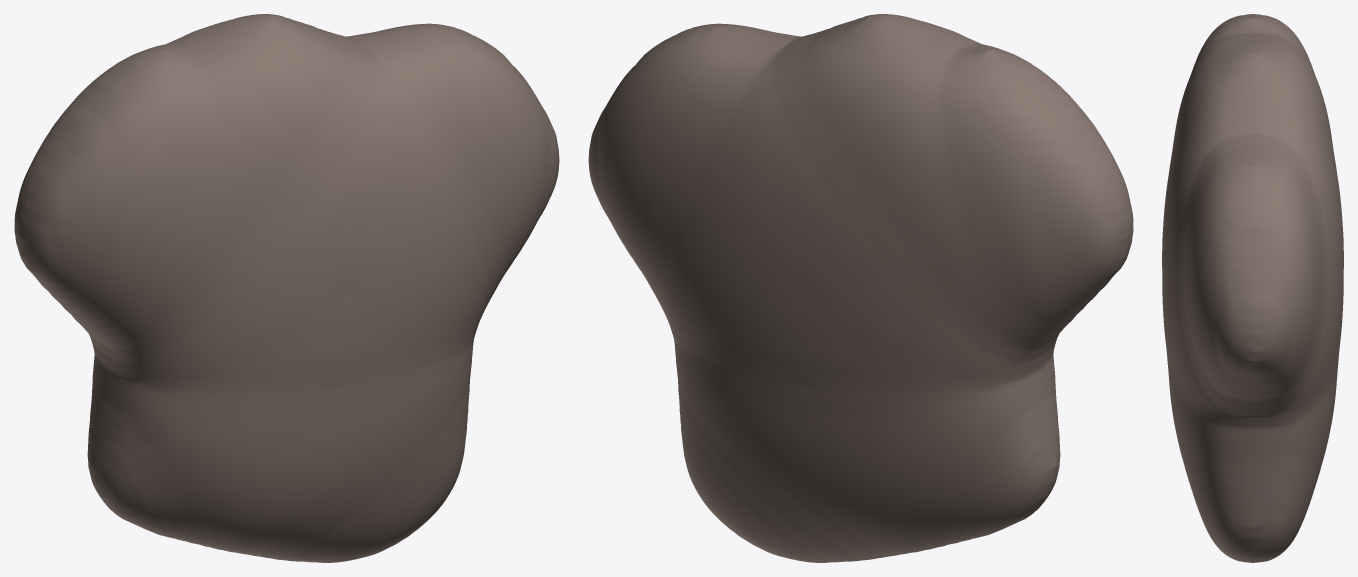
Rendered from particle4.glb.
The picture shows the model from 3 angles, left to right: view 1: azimuth 30°, elevation 25°; view 2: azimuth 150°, elevation 25°; view 3: azimuth 270°, elevation 25°; orthographic projection. The views are drawn at different scales.
Visible parts, largest first — view 1: mesh_id45; view 2: mesh_id45; view 3: mesh_id45.
Part boxes in pixels (x1,y1,x2,y2): mesh_id45: (14, 14, 559, 562); mesh_id45: (588, 14, 1133, 562); mesh_id45: (1162, 14, 1343, 562).
Bounding box in the file's own units: 0.3745 × 0.3742 × 0.1326.
1 material, 1 textured.
